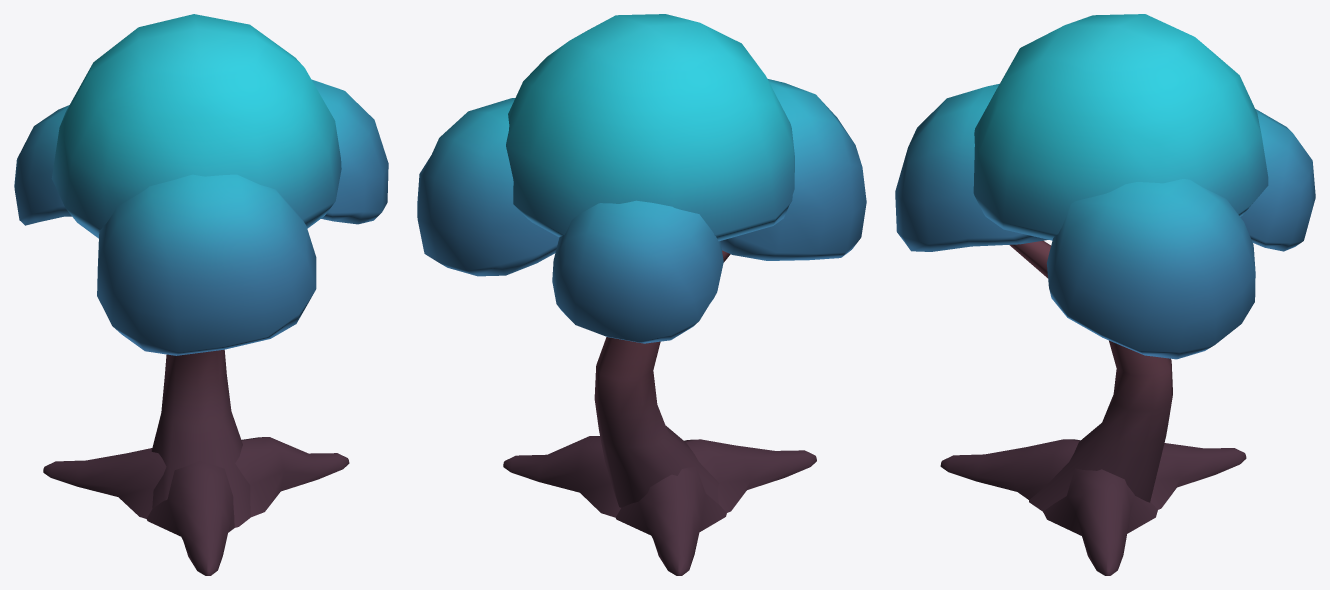
Rendered from tree_pack_12.glb.
3 views of the same model, side by side, from view 1: azimuth 30°, elevation 25°; view 2: azimuth 150°, elevation 25°; view 3: azimuth 270°, elevation 25° (orthographic). The views are drawn at different scales.
Parts seen in each view (by area): view 1: Tree.012; view 2: Tree.012; view 3: Tree.012.
Part boxes in pixels (x1,y1,x2,y2): Tree.012: [14, 14, 388, 575]; Tree.012: [417, 14, 866, 575]; Tree.012: [895, 14, 1315, 575].
Size of the model in its own units: 3.94 by 5.22 by 4.17.
1 material, 1 textured.
